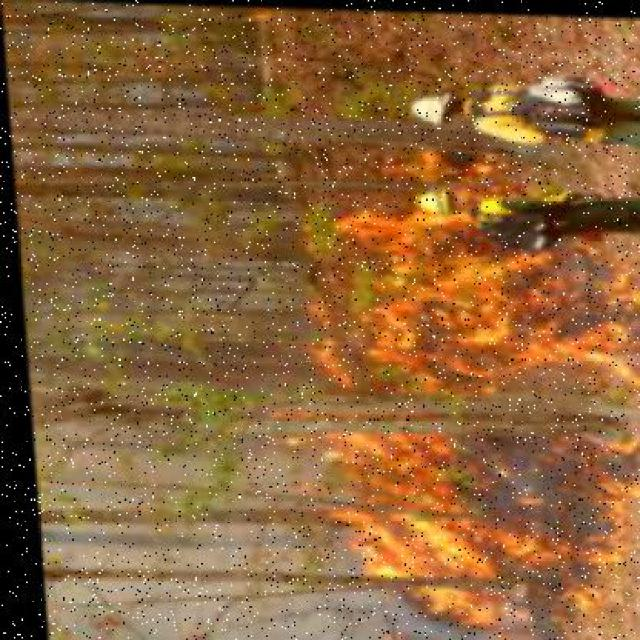fire: (327, 219, 538, 630)
